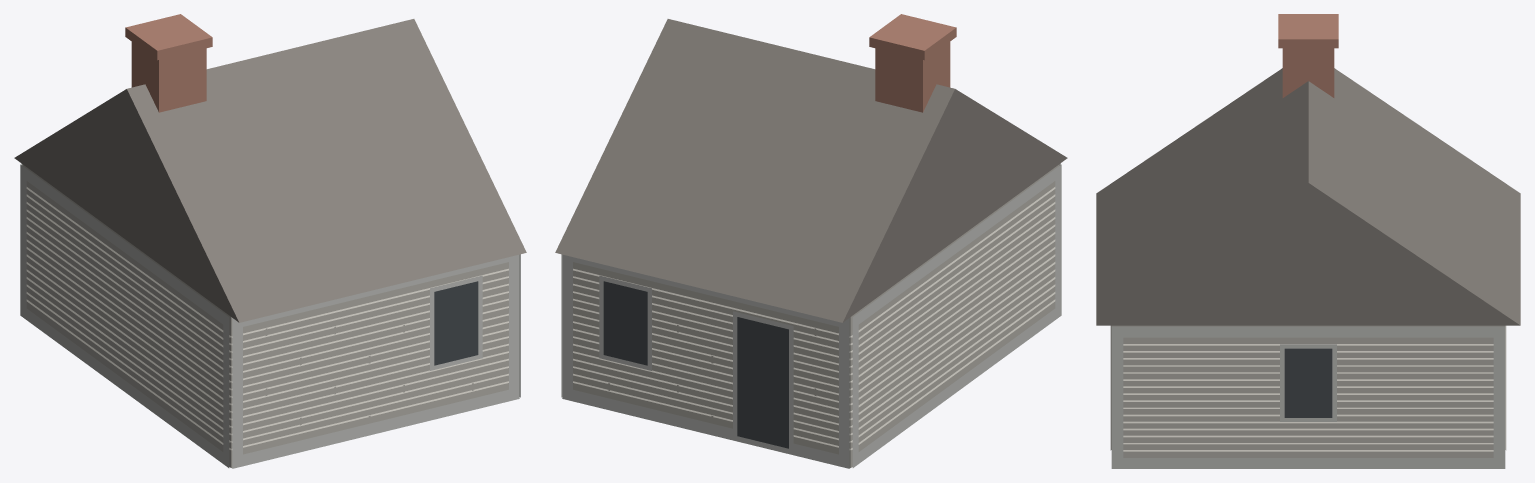
The model's file is recon_1835_blk_lake_clark_d3_02__inferred_1835.glb.
3 views of the same model, side by side, from view 1: azimuth 30°, elevation 25°; view 2: azimuth 150°, elevation 25°; view 3: azimuth 270°, elevation 25° (orthographic). The views are drawn at different scales.
Parts seen in each view (by area): view 1: recon_1835_blk_lake_clark_d3_02__inferred_1835; view 2: recon_1835_blk_lake_clark_d3_02__inferred_1835; view 3: recon_1835_blk_lake_clark_d3_02__inferred_1835.
Part boxes in pixels (box(x1,y1,x2,y2)): recon_1835_blk_lake_clark_d3_02__inferred_1835: box(14, 14, 526, 468); recon_1835_blk_lake_clark_d3_02__inferred_1835: box(555, 14, 1067, 468); recon_1835_blk_lake_clark_d3_02__inferred_1835: box(1096, 14, 1520, 468).
Size of the model in its own units: 5.17 by 5.91 by 6.91.
